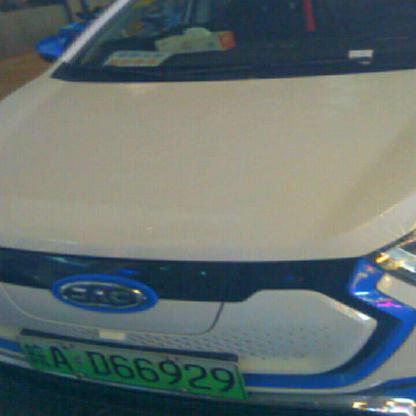lp: (18, 336, 30, 363)
